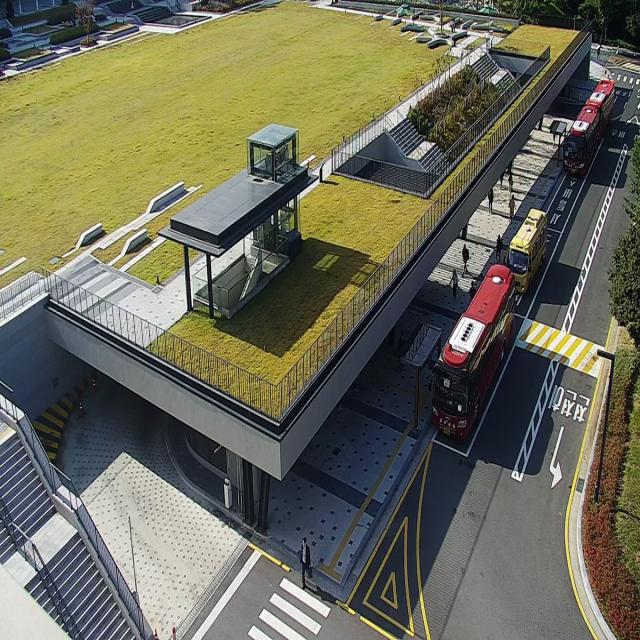queue: (416, 332, 440, 430)
